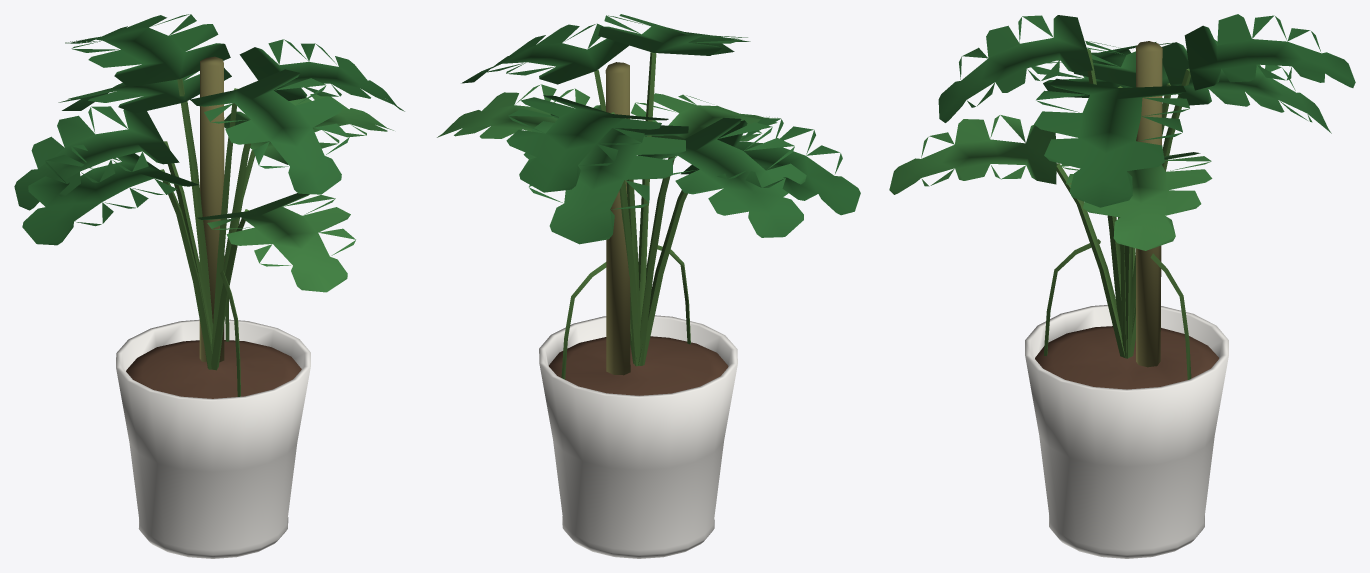
File: monstera.glb
3 renders of one model, left to right at view 1: azimuth 30°, elevation 25°; view 2: azimuth 150°, elevation 25°; view 3: azimuth 270°, elevation 25°, orthographic. The views are drawn at different scales.
Visible parts, largest first — view 1: monstera; view 2: monstera; view 3: monstera.
Boxes of the visible parts, x1,y1,x2,y2 form: monstera: [14, 14, 404, 558]; monstera: [437, 14, 860, 558]; monstera: [889, 14, 1355, 558].
Bounding box in the file's own units: 0.784 × 0.911 × 0.791.
